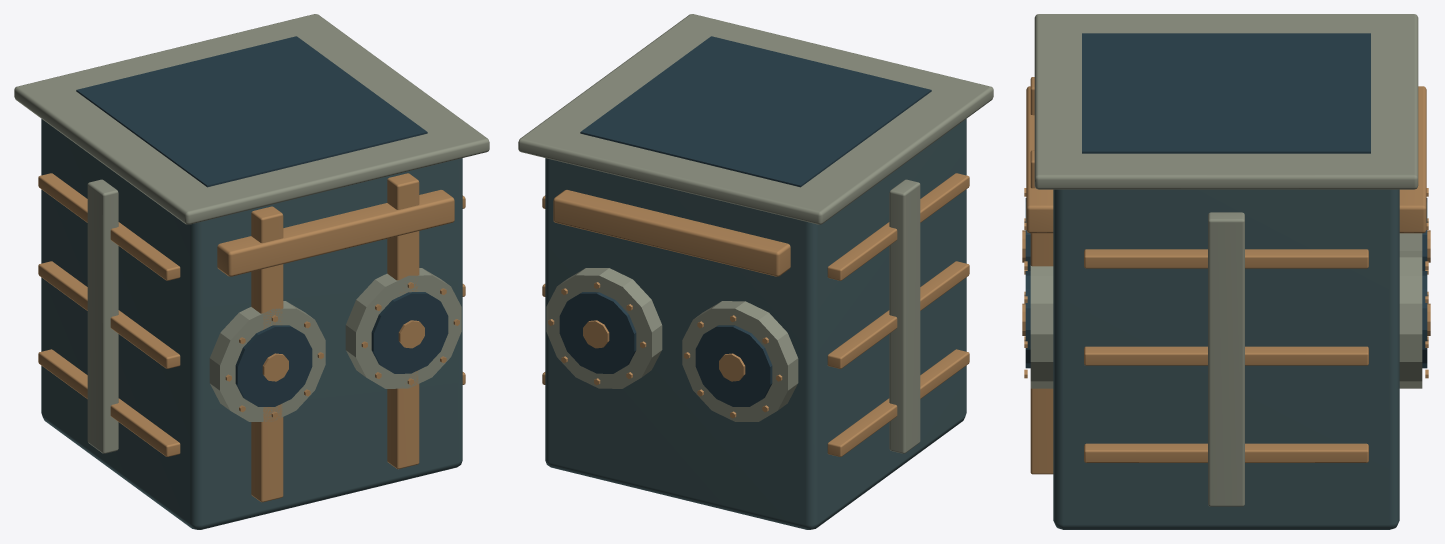
Rendered from pump-top-0.glb.
The picture shows the model from 3 angles, left to right: view 1: azimuth 30°, elevation 25°; view 2: azimuth 150°, elevation 25°; view 3: azimuth 270°, elevation 25°; orthographic projection. The views are drawn at different scales.
Parts seen in each view (by area): view 1: pump_0, pump_1, pump_2, pump_3; view 2: pump_0, pump_1, pump_2, pump_3; view 3: pump_0, pump_1, pump_2, pump_3.
Part boxes in pixels (x1=…): pump_0: x1=41, y1=119, x2=462, y2=529; pump_1: x1=14, y1=14, x2=489, y2=453; pump_2: x1=76, y1=36, x2=448, y2=406; pump_3: x1=38, y1=173, x2=465, y2=502; pump_0: x1=545, y1=119, x2=966, y2=529; pump_1: x1=518, y1=14, x2=993, y2=453; pump_2: x1=559, y1=36, x2=931, y2=406; pump_3: x1=542, y1=173, x2=969, y2=456; pump_0: x1=1053, y1=189, x2=1399, y2=529; pump_1: x1=1030, y1=14, x2=1422, y2=506; pump_2: x1=1025, y1=33, x2=1427, y2=368; pump_3: x1=1022, y1=77, x2=1430, y2=474.
Bounding box in the file's own units: 0.97 × 1 × 0.99.
